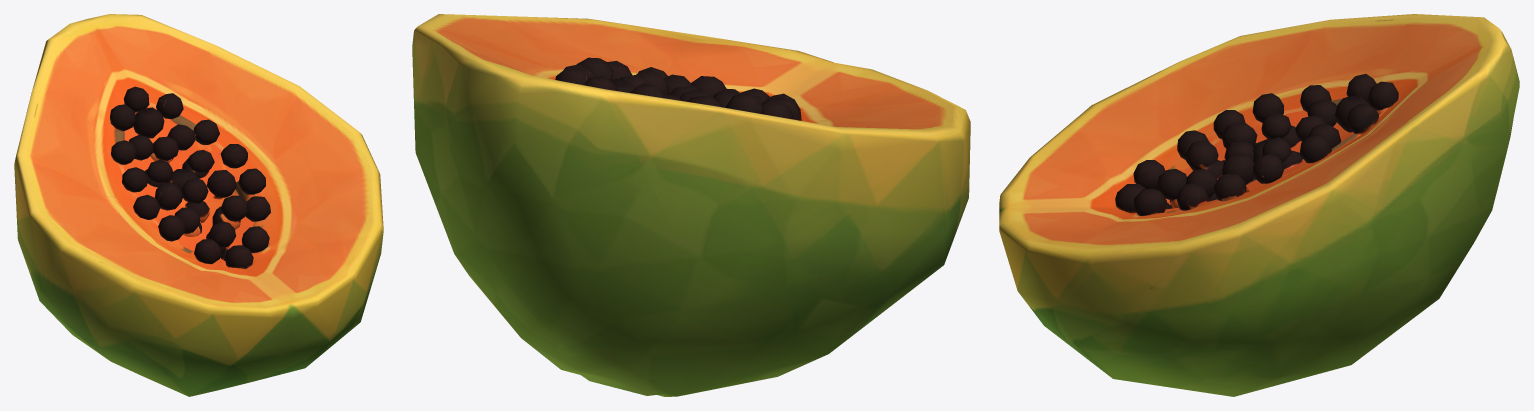
The model's file is Meshy_AI_Papaya_Papercraft_Min_0919211846_texture.glb.
The picture shows the model from 3 angles, left to right: view 1: azimuth 30°, elevation 25°; view 2: azimuth 150°, elevation 25°; view 3: azimuth 270°, elevation 25°; orthographic projection. The views are drawn at different scales.
Bounding box in the file's own units: 0.9043 × 0.7207 × 1.
Materials: 1 (1 with a texture image).
